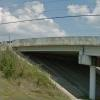Bridge: (8, 30, 97, 67)
